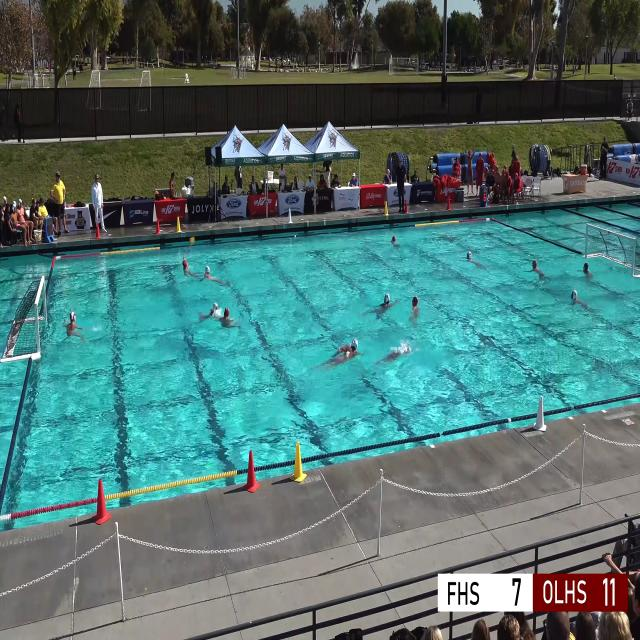ball: (189, 237, 195, 245)
